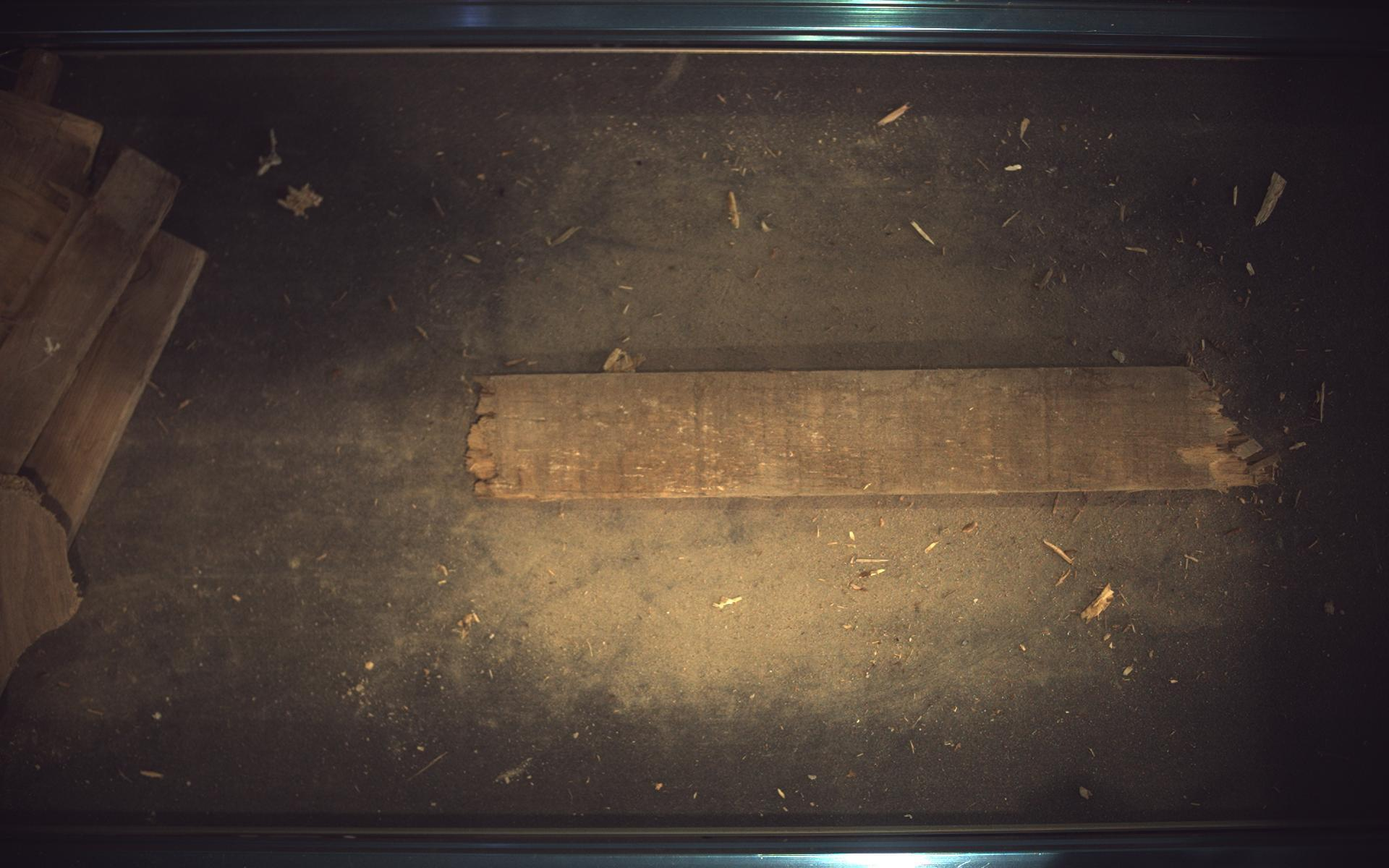wood: (467, 366, 1281, 501), (1, 148, 178, 474), (19, 231, 205, 540), (1, 90, 101, 342), (1, 475, 80, 692)
